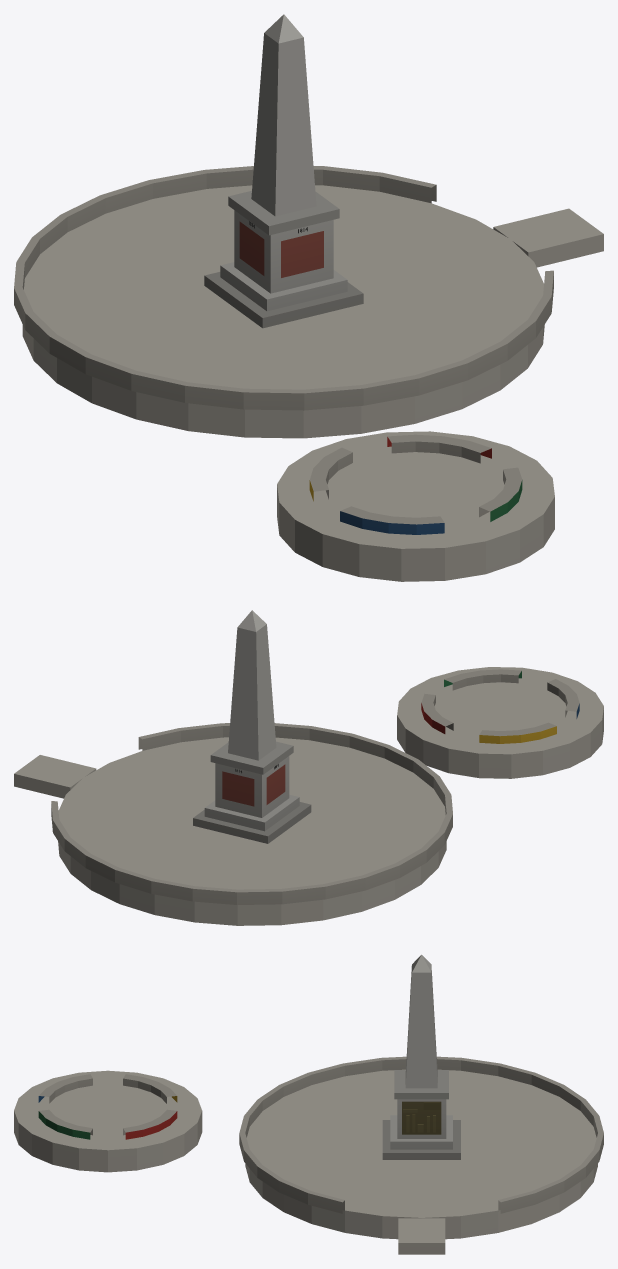
Rendered from campbell.glb.
The picture shows the model from 3 angles, top to bottom: view 1: azimuth 30°, elevation 25°; view 2: azimuth 150°, elevation 25°; view 3: azimuth 270°, elevation 25°; orthographic projection. The views are drawn at different scales.
Parts seen in each view (by area): view 1: campbell_lod0; view 2: campbell_lod0; view 3: campbell_lod0.
Boxes of the visible parts, left/top/right/bottom form: campbell_lod0: left=14, top=14, right=603, bottom=581; campbell_lod0: left=14, top=610, right=603, bottom=925; campbell_lod0: left=14, top=954, right=603, bottom=1254.
Size of what is drawn, in the model's own units: 21.3 by 11.9 by 30.1.
